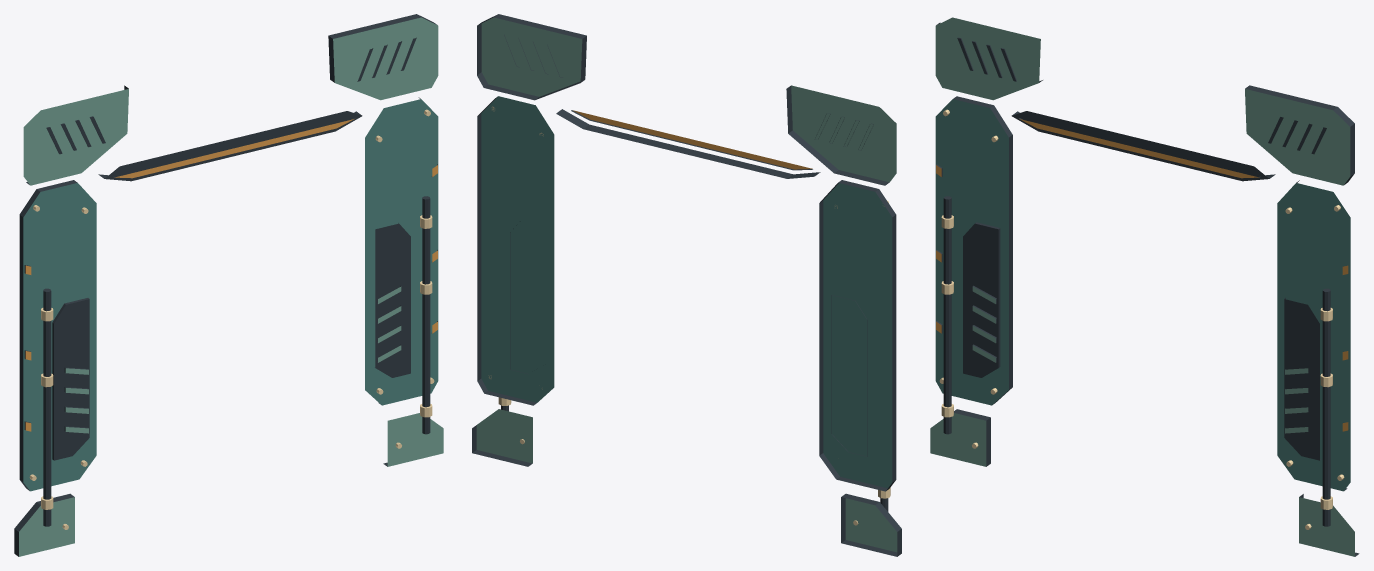
The model's file is GateIronwork.gltf.
3 views of the same model, side by side, from view 1: azimuth 30°, elevation 25°; view 2: azimuth 150°, elevation 25°; view 3: azimuth 330°, elevation 25° (orthographic).
Parts seen in each view (by area): view 1: Faceted cheek plates, Upper cover, Cheek inset, Jamb collars, Weather lip, Oil lines, Gauge louvres, Header vents, Line clips; view 2: Faceted cheek plates, Upper cover, Jamb collars, Weather lip; view 3: Faceted cheek plates, Upper cover, Cheek inset, Jamb collars, Weather lip, Oil lines, Gauge louvres, Header vents, Line clips.
Boxes of the visible parts, x1,y1,x2,y2 form: Faceted cheek plates: (19, 97, 438, 491); Upper cover: (23, 14, 438, 185); Cheek inset: (52, 223, 410, 460); Jamb collars: (14, 413, 443, 556); Weather lip: (98, 111, 362, 181); Oil lines: (43, 196, 430, 526); Gauge louvres: (64, 286, 401, 433); Header vents: (46, 37, 416, 154); Line clips: (41, 215, 432, 509); Faceted cheek plates: (477, 96, 896, 491); Upper cover: (477, 14, 896, 185); Jamb collars: (472, 409, 901, 556); Weather lip: (556, 109, 820, 178); Faceted cheek plates: (935, 96, 1350, 491); Upper cover: (935, 17, 1354, 185); Cheek inset: (963, 222, 1321, 460); Jamb collars: (930, 409, 1359, 556); Weather lip: (1011, 111, 1275, 181); Oil lines: (943, 196, 1330, 526); Gauge louvres: (972, 285, 1308, 433); Header vents: (957, 37, 1326, 154); Line clips: (941, 215, 1332, 509).
Bounding box in the file's own units: 2.5 × 2.48 × 0.138.
